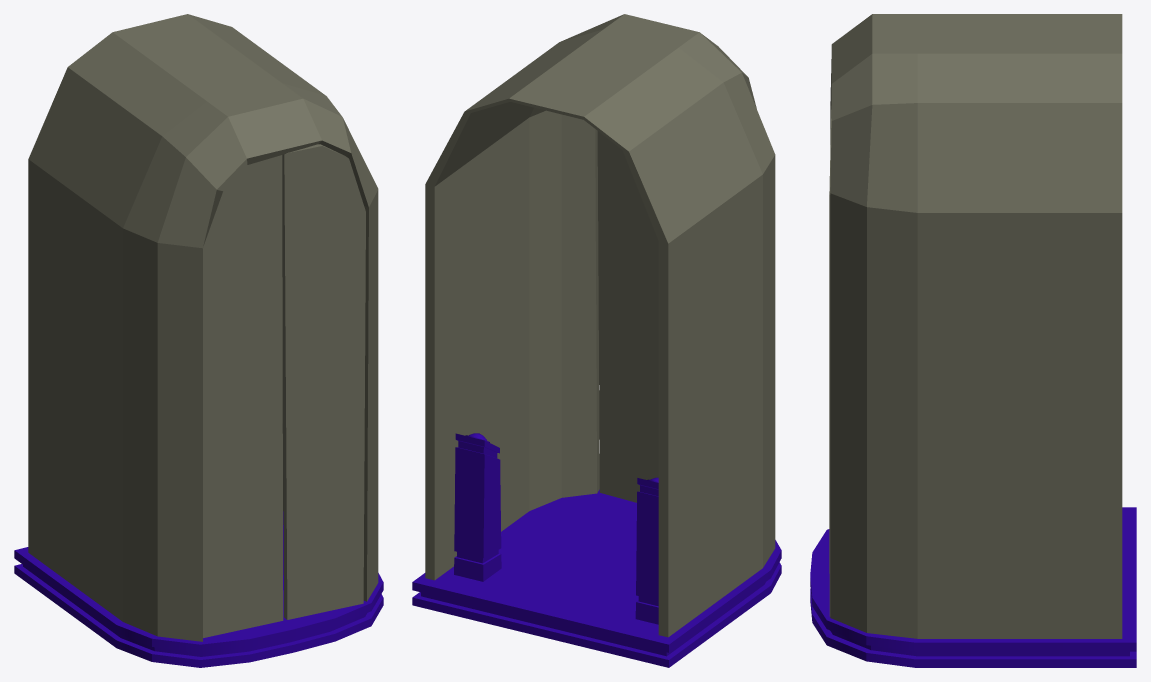
File: LiftNoTextures.fbx
3 views of the same model, side by side, from view 1: azimuth 30°, elevation 25°; view 2: azimuth 150°, elevation 25°; view 3: azimuth 270°, elevation 25° (orthographic). The views are drawn at different scales.
Visible parts, largest first — view 1: walls, Door1, Door, Liftbase; view 2: walls, Liftbase, Door1, Pillar, Pillar1; view 3: walls, Liftbase, Door1.
Boxes of the visible parts, x1,y1,x2,y2 form: walls: (28, 14, 378, 641); Door1: (282, 144, 365, 619); Door: (203, 155, 283, 637); Liftbase: (14, 511, 383, 667); walls: (425, 14, 775, 637); Liftbase: (412, 489, 781, 667); Door1: (597, 131, 658, 502); Pillar: (454, 433, 501, 581); Pillar1: (635, 478, 658, 624); walls: (830, 14, 1122, 638); Liftbase: (810, 507, 1136, 667); Door1: (829, 110, 831, 616).
Bounding box in the file's own units: 199 × 389 × 203.
